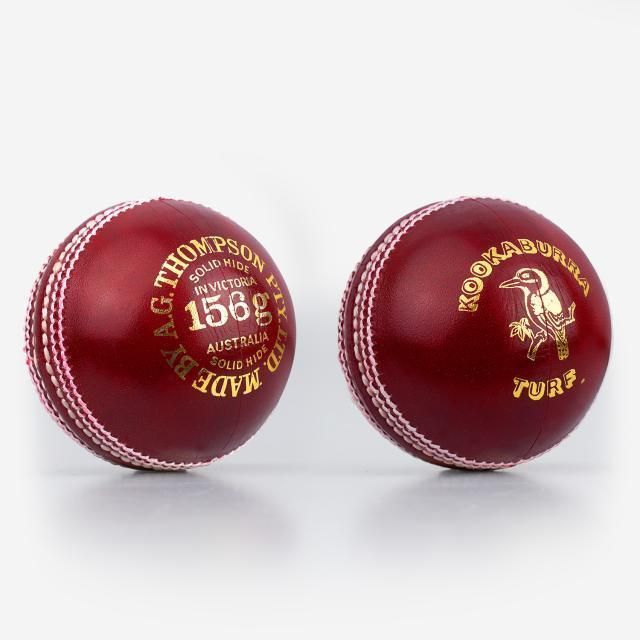cricket ball: (337, 194, 613, 472), (23, 198, 297, 472)
